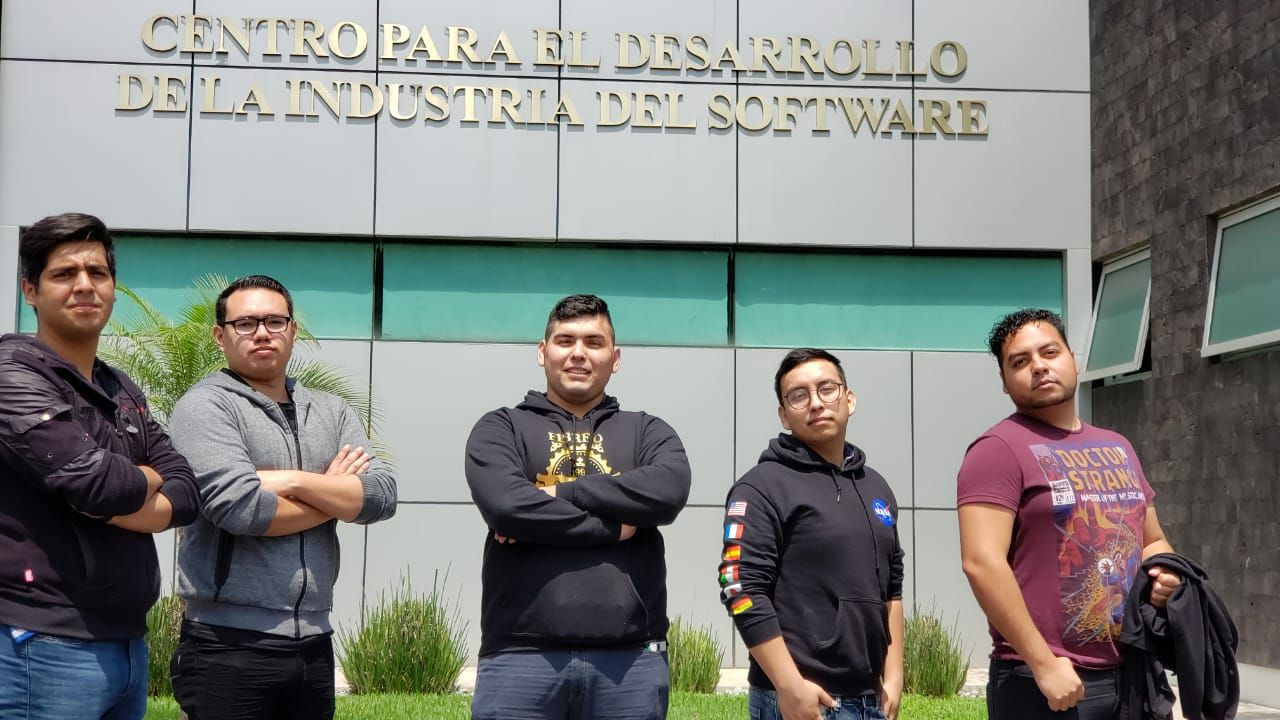Yoshi: (930, 270, 1236, 697)
